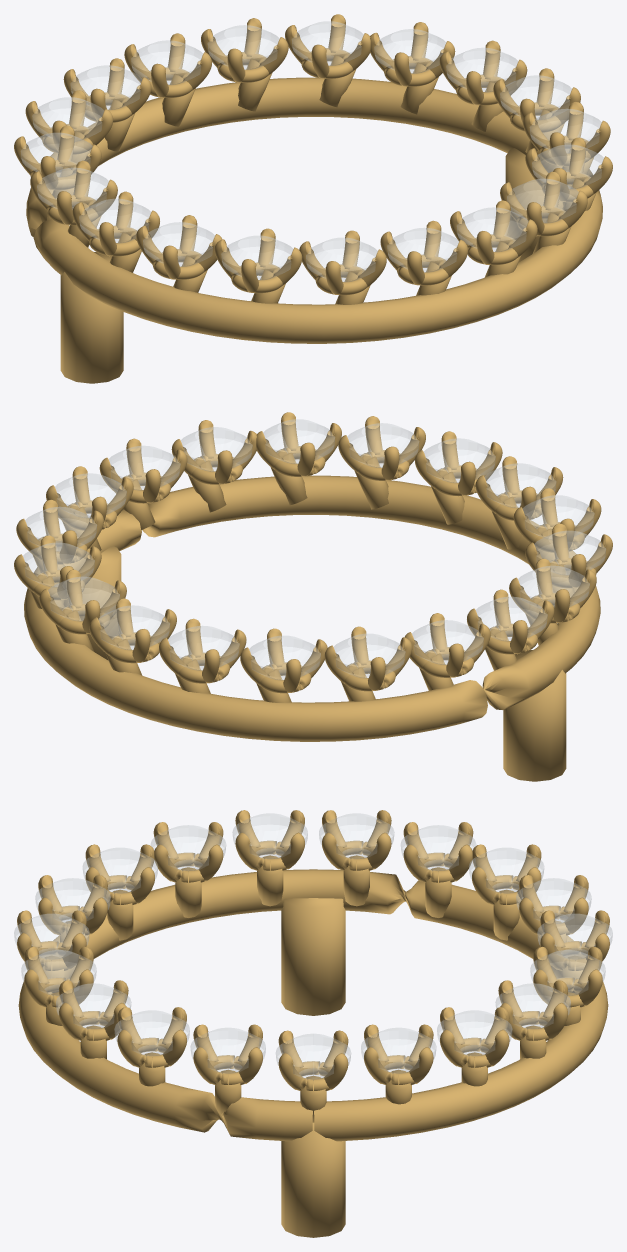
File: layouts-hidden-halo.glb
3 renders of one model, top to bottom at view 1: azimuth 30°, elevation 25°; view 2: azimuth 150°, elevation 25°; view 3: azimuth 270°, elevation 25°, orthographic. The views are drawn at different scales.
Visible parts, largest first — view 1: Bezel rim, Halo shoulder support, Gem.004, Gem.005, Gem.012, Gem.014, Gem.015, Gem.016, Gem.013, Gem.006, Gem.017, Gem.003 (+79 smaller); view 2: Bezel rim, Halo shoulder support, Gem.017, Gem.016, Gem.009, Gem.007, Gem.006, Gem.005, Gem.008, Gem.015, Gem.004, Gem.018 (+79 smaller); view 3: Bezel rim, Halo shoulder support, Halo shoulder support.001, Gem.019, Gem.002, Gem.003, Gem.010, Gem.011, Gem.018, Gem.001, Gem.009, Gem.012 (+33 smaller).
Part boxes in pixels (<box>): Bezel rim: <box>26,77,602,343</box>; Halo shoulder support: <box>60,252,123,383</box>; Gem.004: <box>292,21,363,65</box>; Gem.005: <box>208,25,279,69</box>; Gem.012: <box>143,222,214,266</box>; Gem.014: <box>306,238,377,282</box>; Gem.015: <box>387,228,458,272</box>; Gem.016: <box>457,207,528,251</box>; Gem.013: <box>221,236,292,280</box>; Gem.006: <box>131,40,202,84</box>; Gem.017: <box>507,179,578,223</box>; Gem.003: <box>374,29,445,73</box>; Bezel rim: <box>24,475,600,741</box>; Halo shoulder support: <box>503,650,566,781</box>; Gem.017: <box>263,419,334,463</box>; Gem.016: <box>347,423,418,467</box>; Gem.009: <box>412,620,483,664</box>; Gem.007: <box>249,636,320,680</box>; Gem.006: <box>168,626,239,670</box>; Gem.005: <box>98,605,169,649</box>; Gem.008: <box>334,634,405,678</box>; Gem.015: <box>424,438,495,482</box>; Gem.004: <box>48,577,119,621</box>; Gem.018: <box>181,427,252,471</box>; Bezel rim: <box>18,869,608,1141</box>; Halo shoulder support: <box>281,898,345,1015</box>; Halo shoulder support.001: <box>281,1122,345,1237</box>; Gem.019: <box>190,1028,265,1073</box>; Gem.002: <box>361,1028,436,1073</box>; Gem.003: <box>437,1010,512,1056</box>; Gem.010: <box>319,813,394,859</box>; Gem.011: <box>232,813,307,858</box>; Gem.018: <box>114,1010,189,1055</box>; Gem.001: <box>276,1033,350,1079</box>; Gem.009: <box>401,825,475,870</box>; Gem.012: <box>151,825,225,870</box>.
Bounding box in the file's own units: 5.91 × 1.99 × 5.93.
